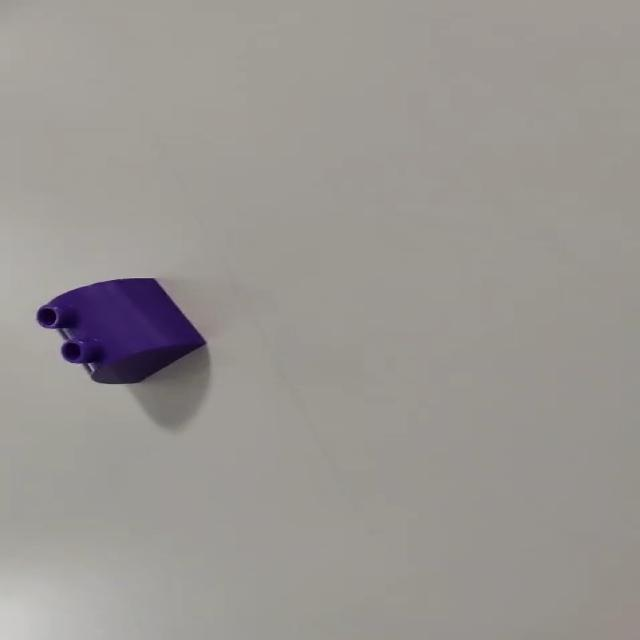H2x2x1: (31, 278, 210, 387)
